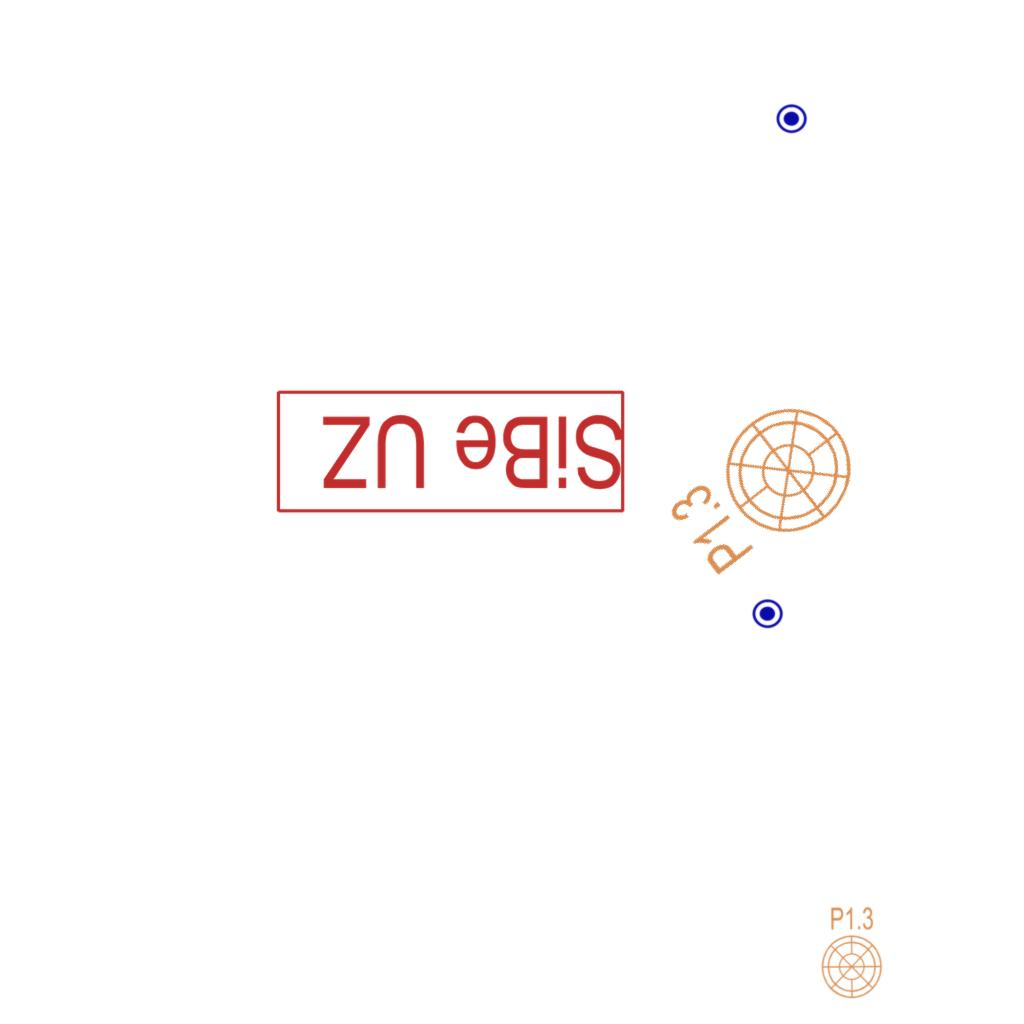Aufbaurundleuchte_LED_Treppenhaus: (632, 370, 881, 605), (820, 898, 889, 1000)
Taster: (751, 596, 784, 629), (775, 101, 808, 134)
Zentrale_Sicherheitsbeleuchtung: (271, 386, 628, 516)
